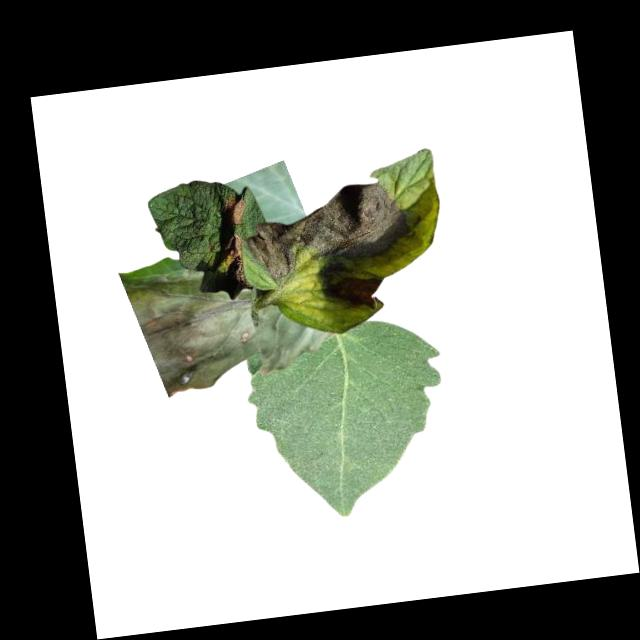Late_blight: (117, 254, 338, 398), (241, 178, 411, 280), (325, 270, 387, 314), (218, 193, 248, 225), (222, 232, 245, 267)
